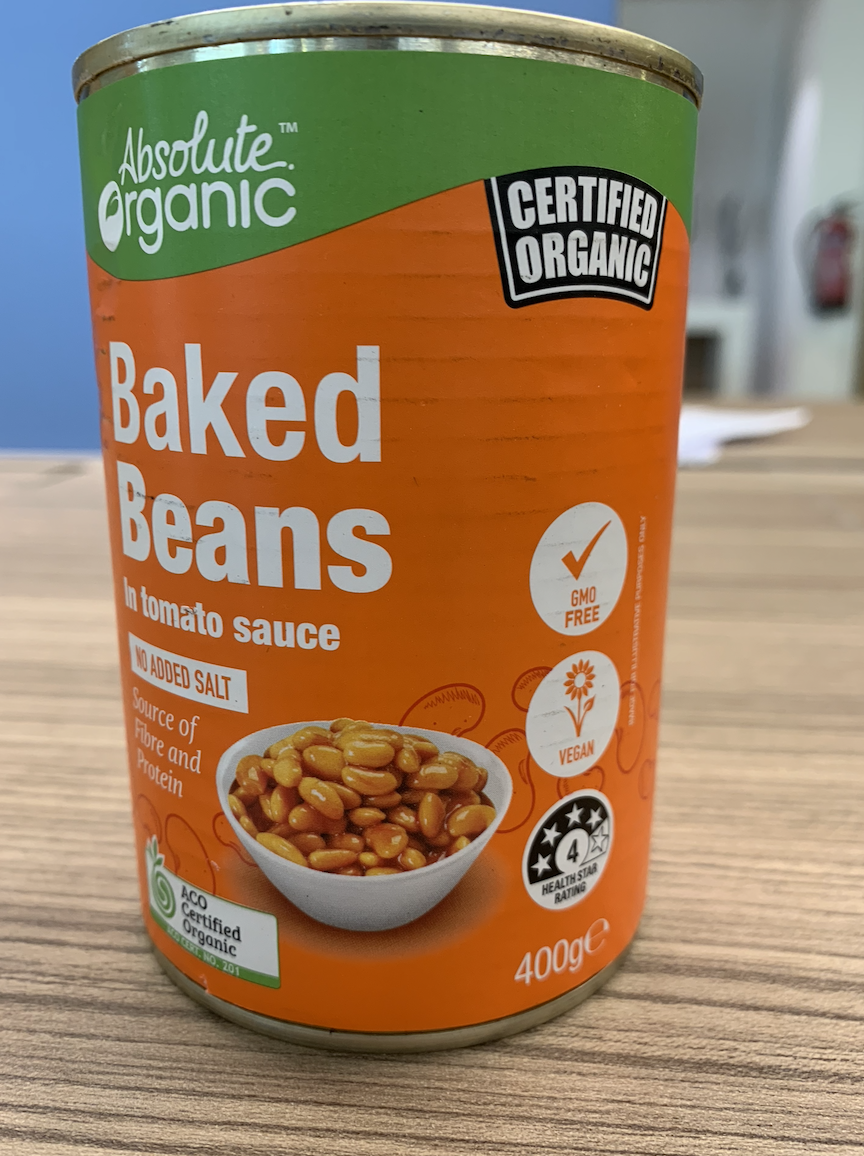Baked beans_400-499g: (102, 79, 669, 1010)
